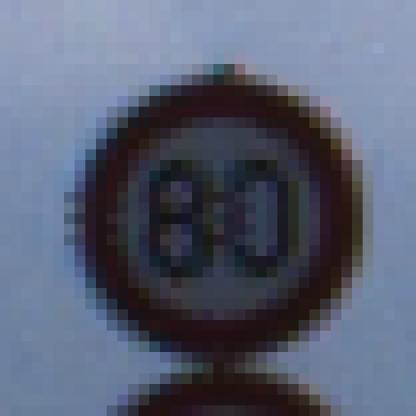Speed Limit 80: (85, 82, 356, 358)
